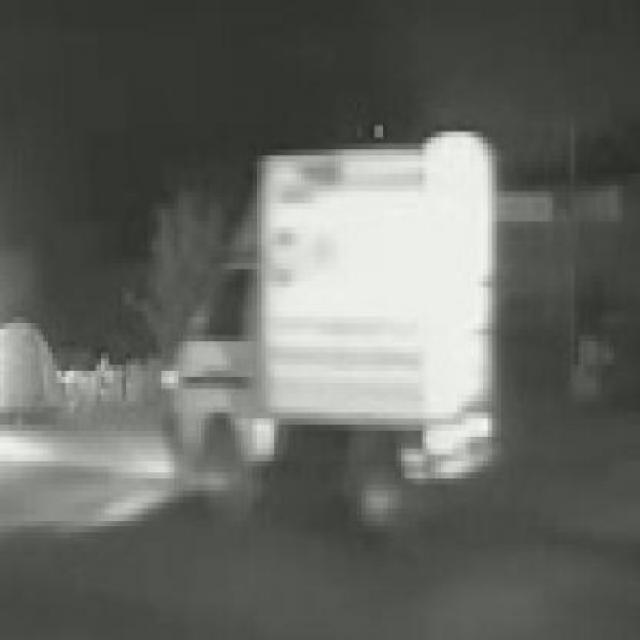vehicle: (146, 121, 574, 546)
